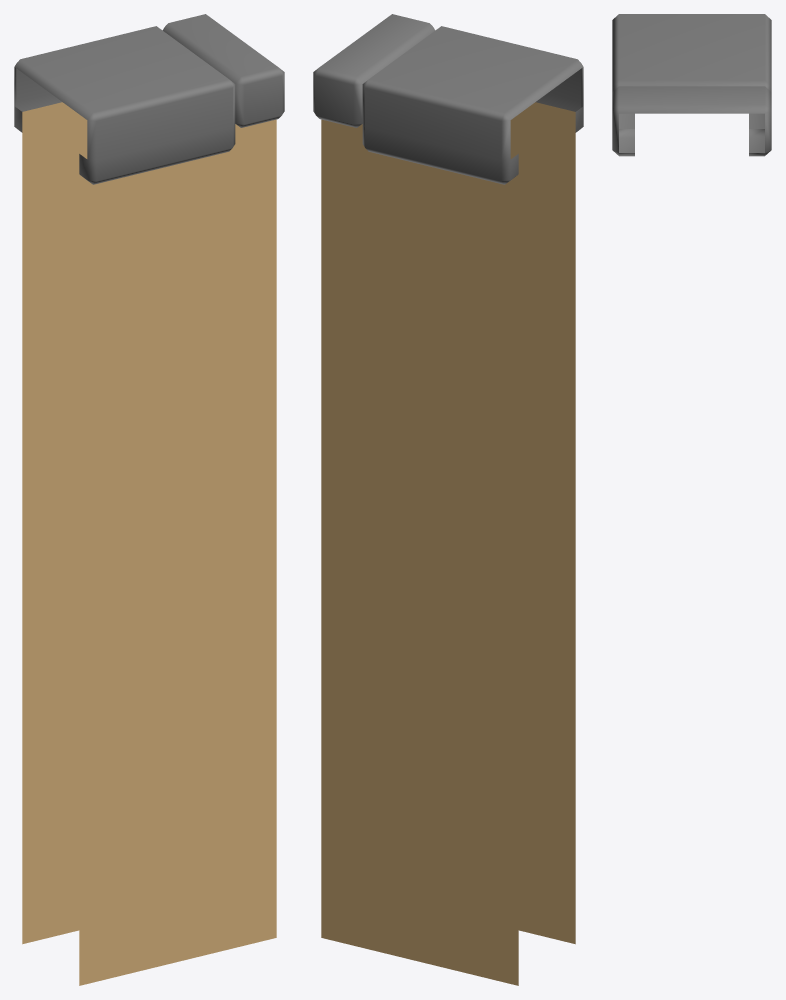
Rendered from SM_WallA_2x8_LOD0.fbx.
3 renders of one model, left to right at view 1: azimuth 30°, elevation 25°; view 2: azimuth 150°, elevation 25°; view 3: azimuth 270°, elevation 25°, orthographic.
Visible parts, largest first — view 1: SM_WallA_2x8_LOD0; view 2: SM_WallA_2x8_LOD0; view 3: SM_WallA_2x8_LOD0.
Part boxes in pixels (left/top/right/bottom): SM_WallA_2x8_LOD0: left=14, top=14, right=284, bottom=985; SM_WallA_2x8_LOD0: left=313, top=14, right=583, bottom=985; SM_WallA_2x8_LOD0: left=612, top=14, right=771, bottom=156.
Bounding box in the file's own units: 2 × 8.5 × 1.4.
